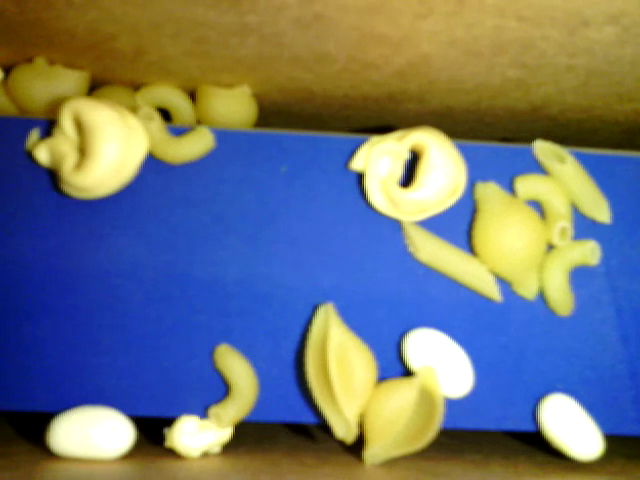elbow: (543, 236, 602, 317), (139, 103, 214, 166), (207, 340, 260, 426), (516, 175, 575, 249), (136, 82, 204, 127)
penne: (403, 218, 501, 306), (530, 138, 613, 226)
shell: (298, 300, 377, 444), (470, 181, 548, 301), (355, 367, 445, 469), (4, 57, 92, 112), (194, 79, 258, 136)
tortellini: (30, 96, 154, 199), (347, 126, 469, 223)
